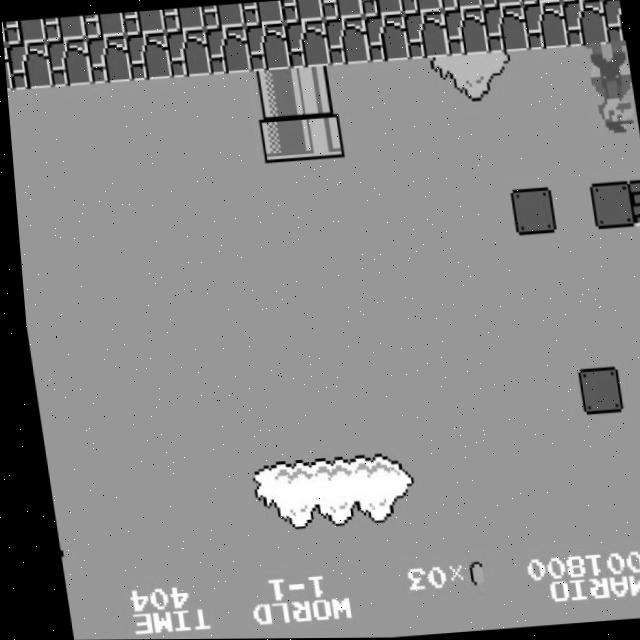0- big_mario: (585, 40, 637, 138)
1- brick_block: (626, 180, 640, 227)
14- pipe: (249, 68, 296, 118), (289, 66, 336, 115)
15- pipe_head: (255, 114, 303, 163), (295, 111, 342, 160)
17- undestructible_block: (481, 4, 529, 54), (44, 37, 92, 87), (163, 29, 211, 78), (402, 10, 449, 60), (322, 16, 369, 66), (521, 2, 568, 51), (442, 8, 489, 57), (362, 14, 409, 63), (283, 20, 330, 69), (243, 23, 290, 72), (203, 26, 250, 75), (124, 32, 171, 81), (84, 35, 131, 84), (5, 41, 52, 90), (561, 0, 608, 48), (160, 6, 205, 33), (240, 0, 284, 27), (81, 12, 125, 39), (41, 16, 86, 42), (1, 18, 46, 44), (200, 3, 244, 29), (121, 9, 165, 35), (602, 0, 625, 45), (279, 0, 324, 23), (319, 0, 363, 20), (359, 0, 403, 17), (399, 0, 443, 14), (439, 0, 483, 11), (3, 44, 11, 91), (479, 0, 523, 8), (519, 0, 563, 5)
3- empty_block: (585, 181, 632, 230), (506, 187, 553, 236), (570, 367, 617, 415)
